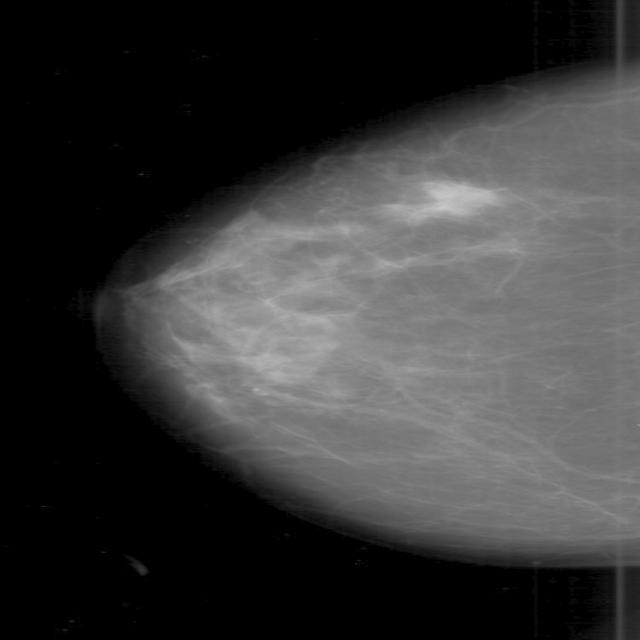tumour: (399, 179, 500, 221)
